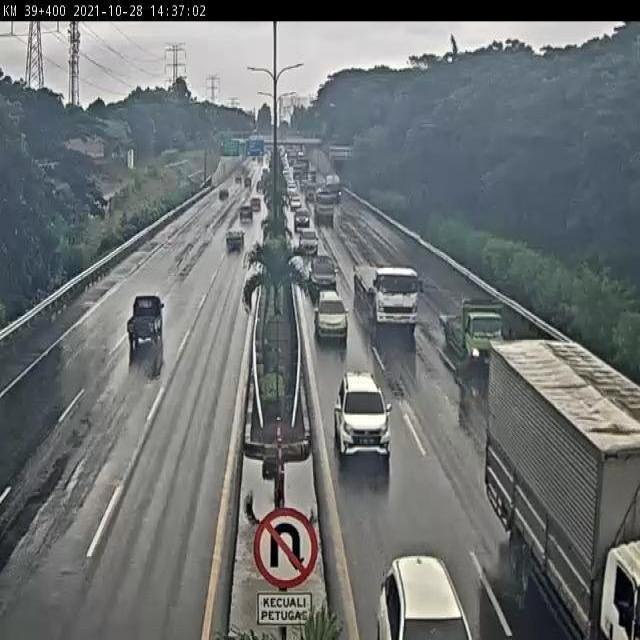big truck: (479, 334, 640, 640), (353, 264, 424, 335)
car: (371, 520, 464, 640), (340, 367, 388, 464), (116, 283, 174, 356), (316, 282, 349, 334), (222, 230, 245, 262), (313, 249, 333, 284)
small truck: (441, 291, 492, 360)
